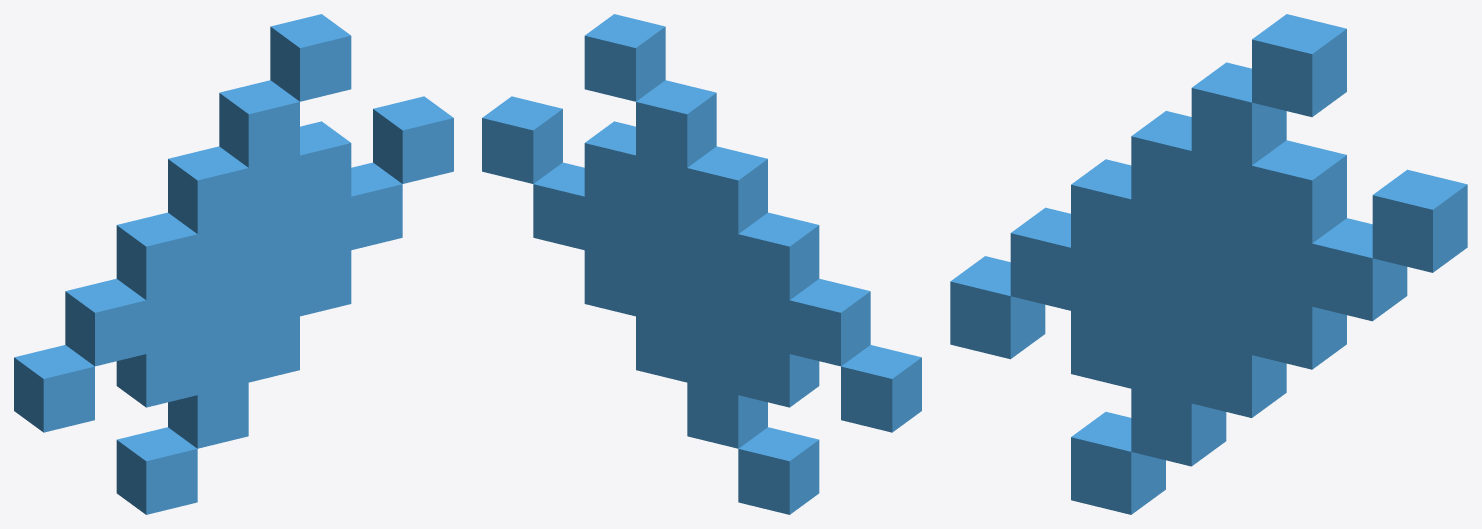
The model's file is Scroll-Blue.vox.obj.
3 renders of one model, left to right at view 1: azimuth 30°, elevation 25°; view 2: azimuth 150°, elevation 25°; view 3: azimuth 330°, elevation 25°, orthographic. The views are drawn at different scales.
Size of the model in its own units: 0.8 by 0.8 by 0.1.
Materials: 1 (1 with a texture image).
